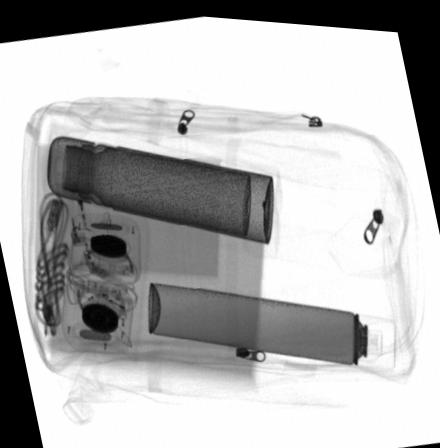Lighter: (59, 186, 88, 245)
Sprayer: (146, 279, 394, 364)
